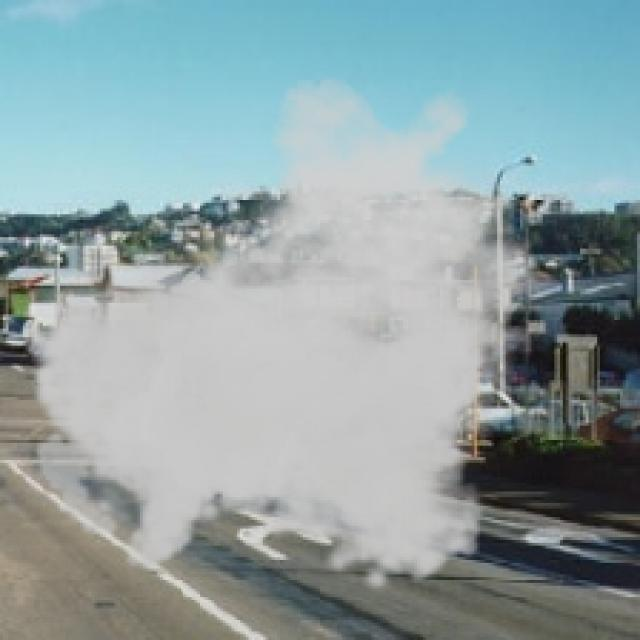smoke: (20, 75, 580, 594)
